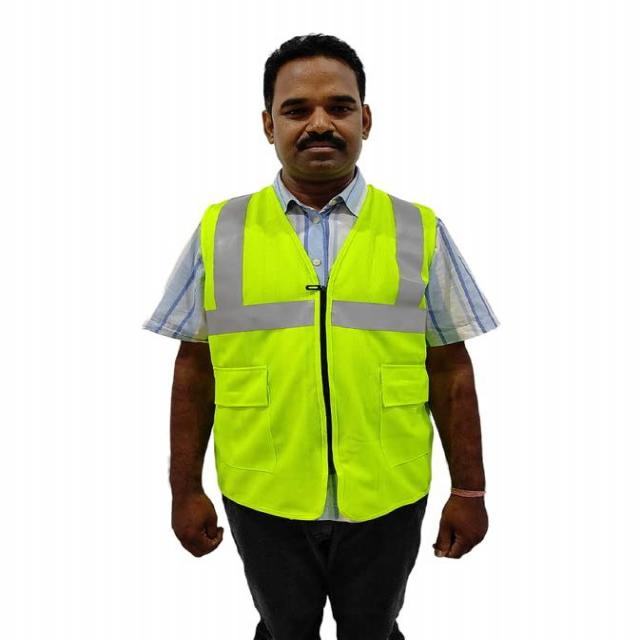Reflective-Jacket: (194, 182, 453, 521)
